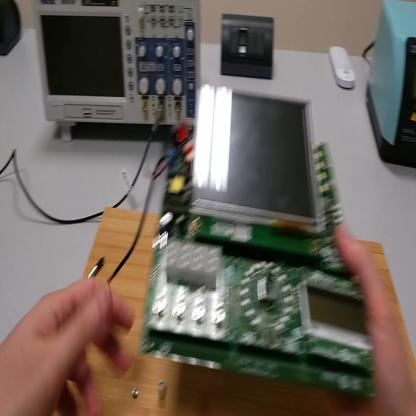hand: (2, 276, 135, 415), (333, 231, 416, 416)
low voltage board: (131, 95, 368, 402)
oscilloscope: (35, 4, 204, 142)
screwdriver-: (86, 258, 106, 279)
socket: (2, 4, 22, 59)
welder station: (369, 4, 415, 170)
working area: (58, 209, 414, 413)
